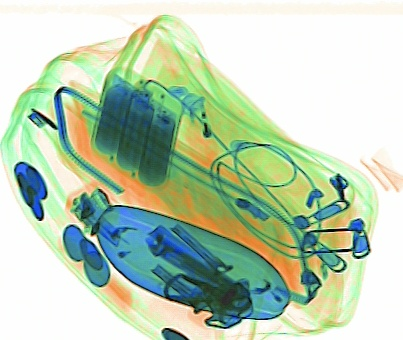lighter: (177, 90, 222, 182)
powerbank: (86, 67, 183, 186)
